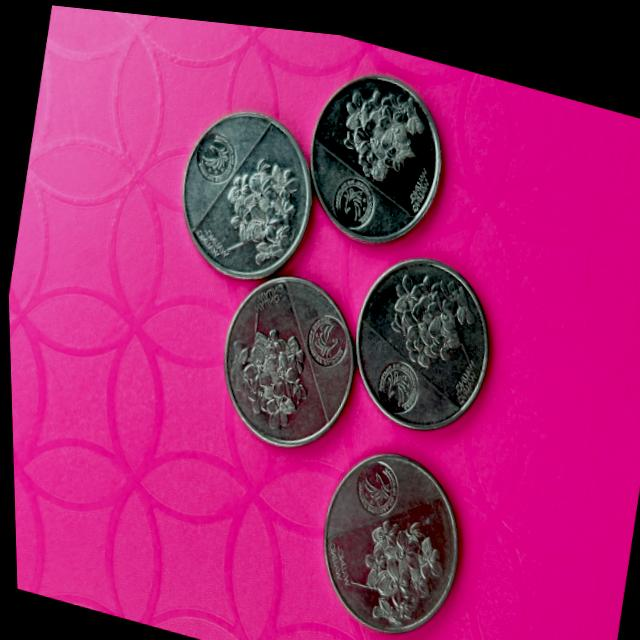1_New_Back: (200, 280, 328, 436), (366, 250, 482, 387), (342, 494, 449, 628), (332, 60, 439, 188), (216, 138, 309, 272)
